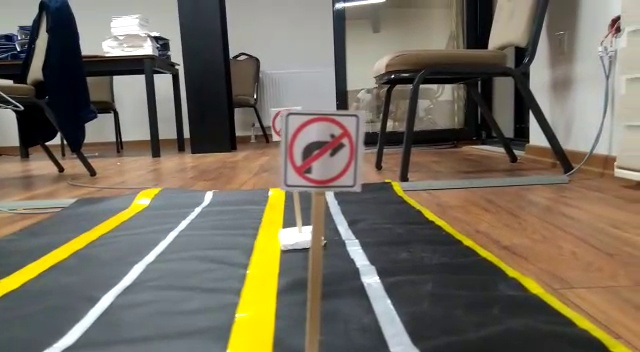saga_donulmez: (287, 116, 358, 183)
